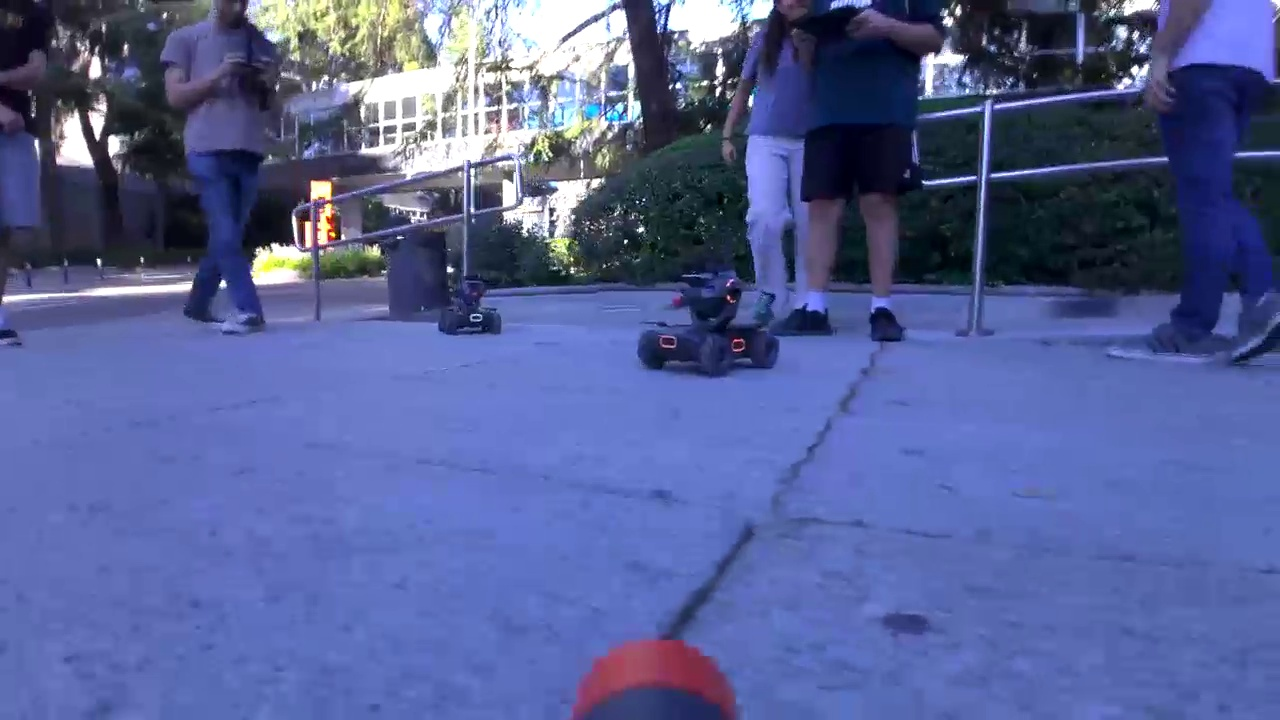robot: (637, 261, 781, 378), (437, 274, 503, 335)
